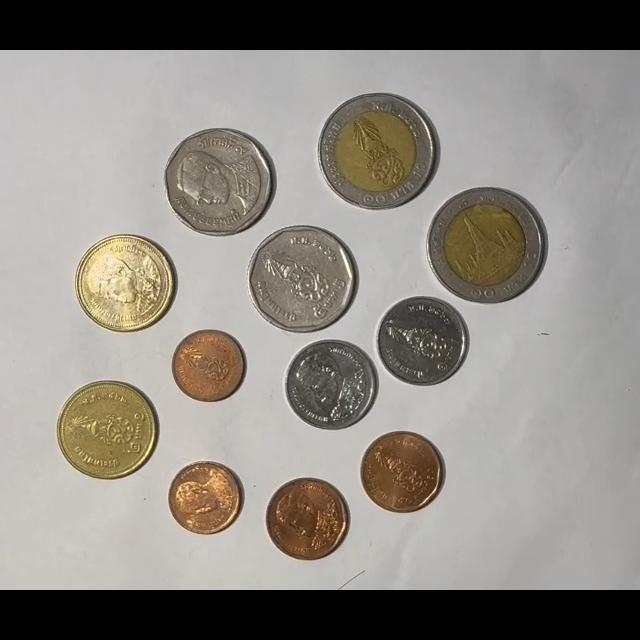1-baht: (284, 339, 377, 431), (376, 295, 469, 386)
10-baht: (318, 93, 438, 212), (427, 187, 546, 304)
2-baht: (57, 380, 158, 480), (75, 234, 174, 334)
25-satang: (168, 460, 244, 535), (171, 329, 245, 401)
5-baht: (163, 128, 275, 237), (248, 225, 357, 334)
50-satang: (265, 477, 349, 561), (360, 431, 444, 514)
